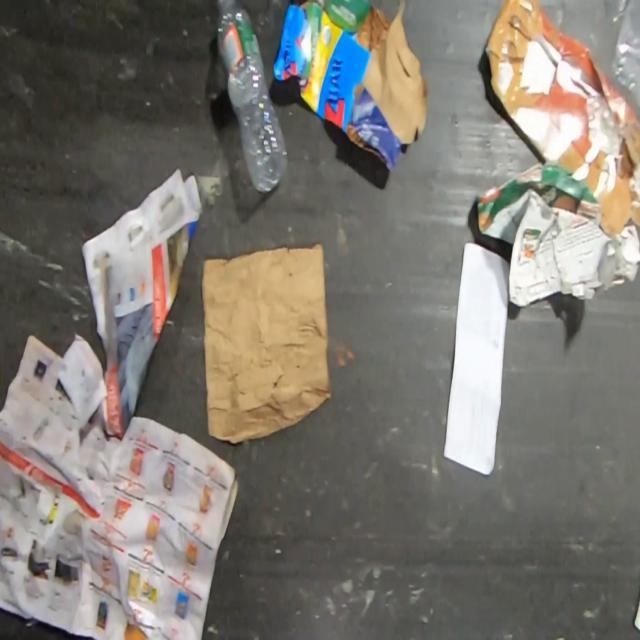cardboard: (484, 0, 639, 235), (272, 0, 430, 174), (200, 242, 334, 446), (475, 160, 640, 311)
rigid_plastic: (215, 0, 290, 196), (608, 0, 639, 128)
